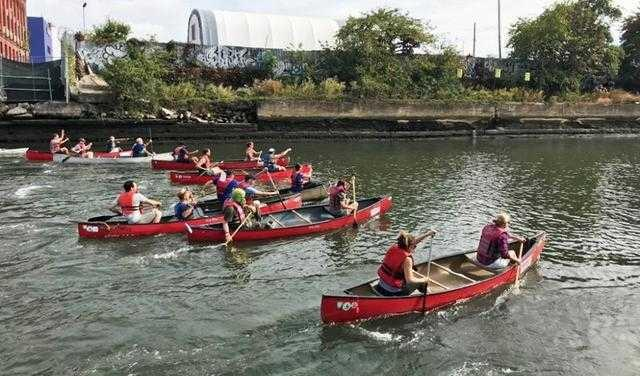kayak: (320, 235, 546, 328), (78, 189, 392, 246), (53, 149, 153, 165), (25, 149, 53, 161), (0, 146, 30, 157)
